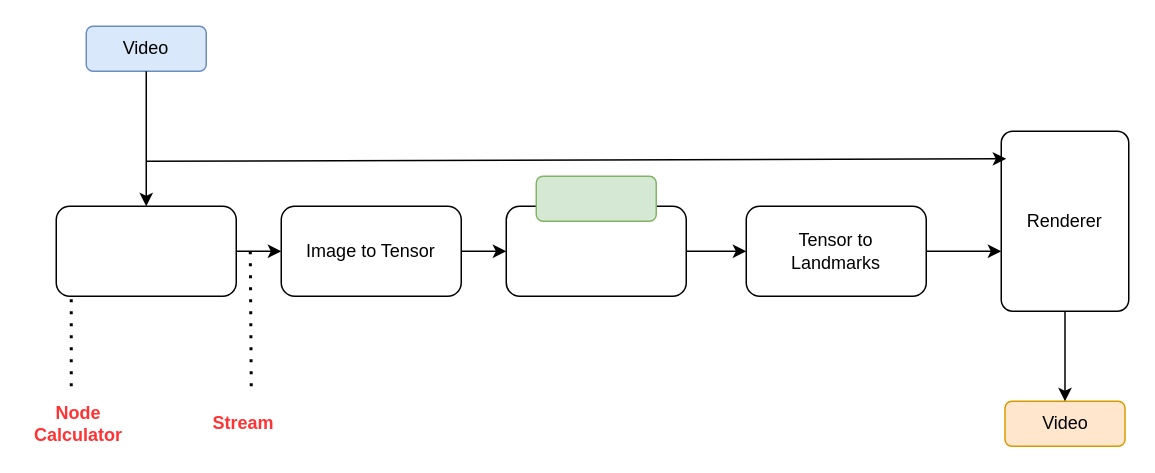
The diagram is 1155 pixels wide and 473 high, and some of its shapes have lost their labels. The box of each missing label's shape, as (x1, y1, x2, y2) in pixels:
Image Transform: (55, 205, 236, 296)
Inference: (505, 205, 686, 296)
Model: (535, 175, 656, 221)
